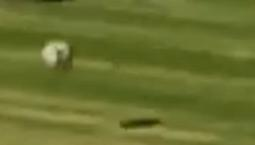ball: (33, 34, 76, 75)
